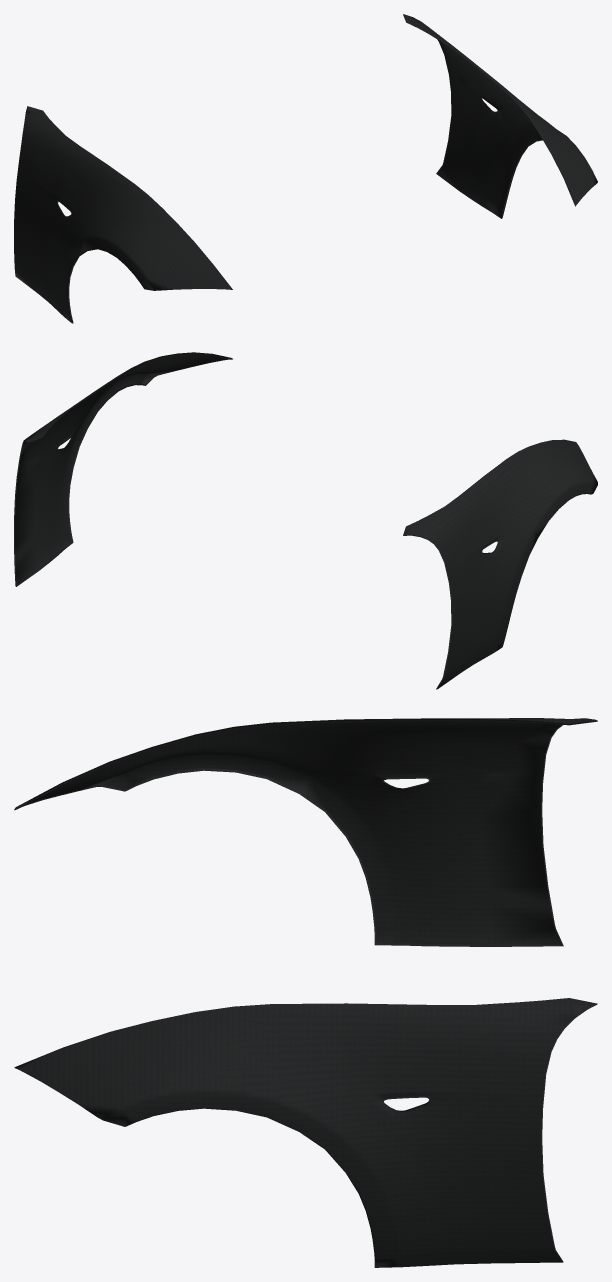
File: BP43_carbon_front_fenders.glb
3 views of the same model, one above another, from view 1: azimuth 30°, elevation 25°; view 2: azimuth 150°, elevation 25°; view 3: azimuth 270°, elevation 25° (orthographic). The views are drawn at different scales.
Parts seen in each view (by area): view 1: MOD_ND_BP43_panel_R, MOD_ND_BP43_panel_L; view 2: MOD_ND_BP43_panel_R, MOD_ND_BP43_panel_L; view 3: MOD_ND_BP43_panel_L, MOD_ND_BP43_panel_R.
Boxes of the visible parts, x1,y1,x2,y2 form: MOD_ND_BP43_panel_R: [14, 106, 232, 323]; MOD_ND_BP43_panel_L: [403, 14, 597, 218]; MOD_ND_BP43_panel_R: [403, 439, 597, 689]; MOD_ND_BP43_panel_L: [14, 352, 232, 586]; MOD_ND_BP43_panel_L: [14, 998, 597, 1267]; MOD_ND_BP43_panel_R: [14, 718, 597, 946].
Bounding box in the file's own units: 1.73 × 0.5819 × 1.25.
Materials: 1 (1 with a texture image).
